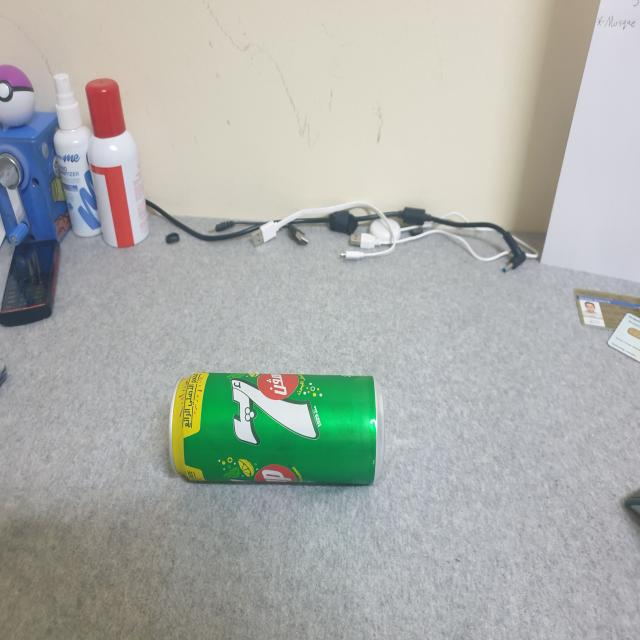non-organic waste: (164, 352, 390, 518)
